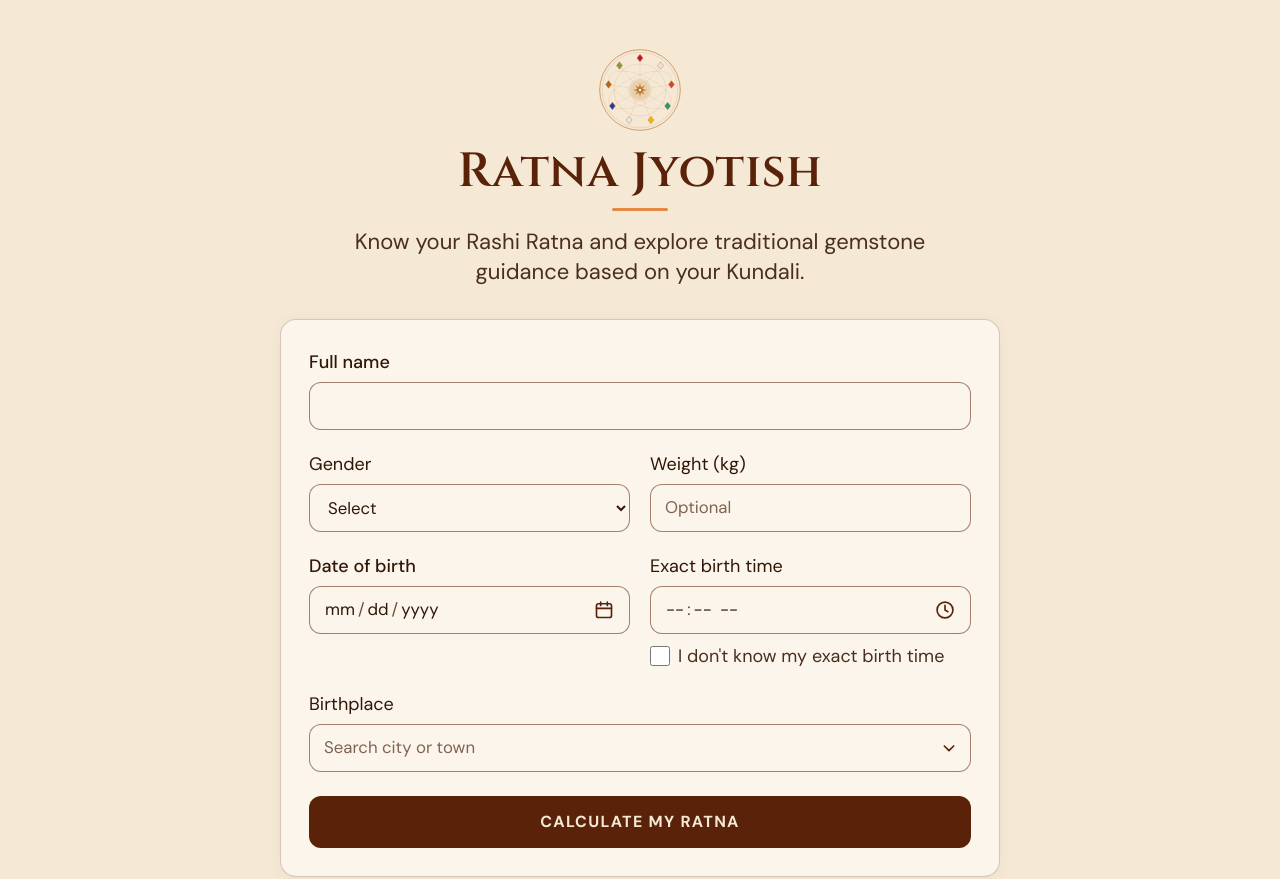
Scenario: Ratna Jyotish form › sends no time when the birth time is unknown and shows a gemstone-led date-based result
Type "Asha Verma" into the field labelled "Full name" at [640, 406], box [309,382,971,430]
Select "Female" in the dropdown labelled "Gender" at [470, 508], box [309,484,630,532]
Type "58" into the number field labelled "Weight (kg)" at [810, 508], box [650,484,971,532]
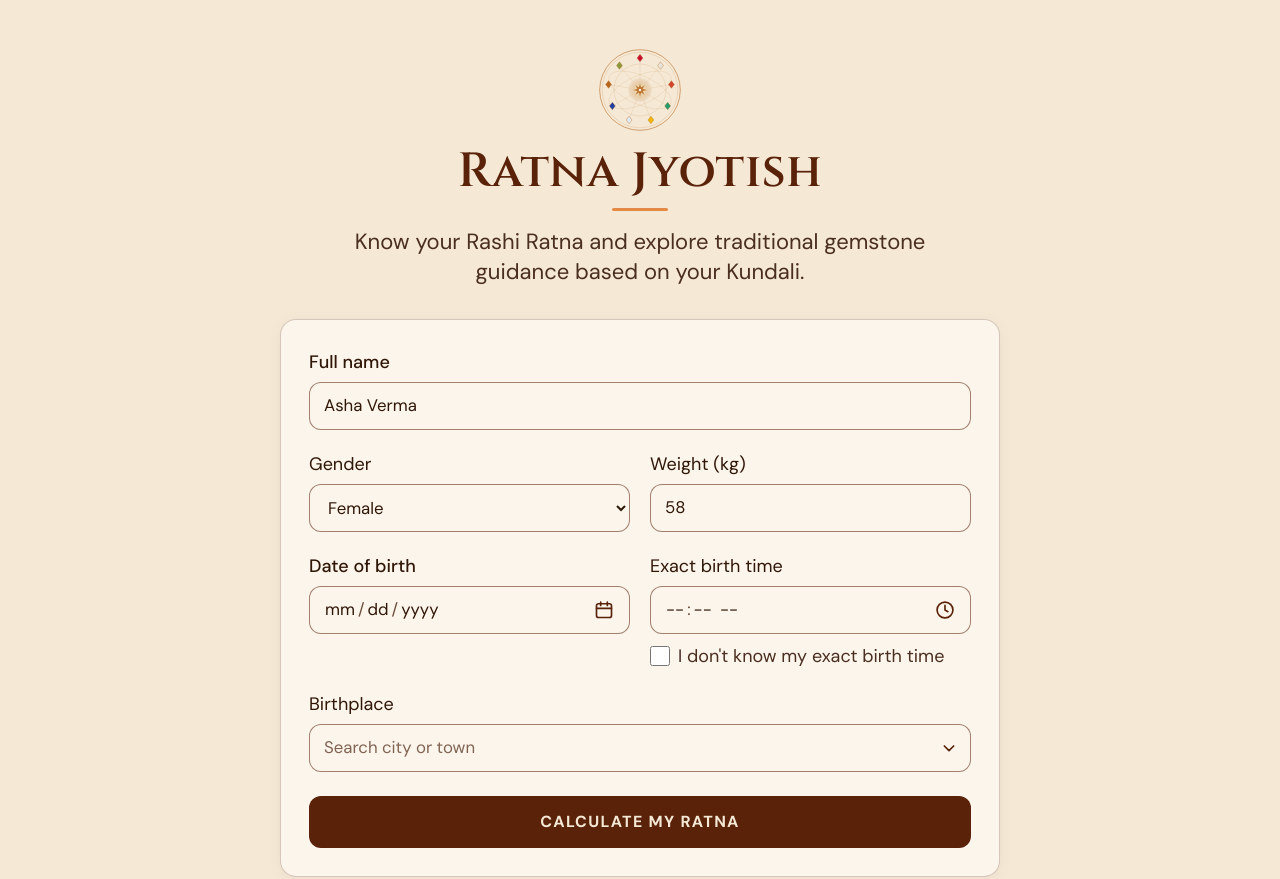
Type "1990-05-05" into the date field labelled "Date of birth" at [470, 610], box [309,586,630,634]
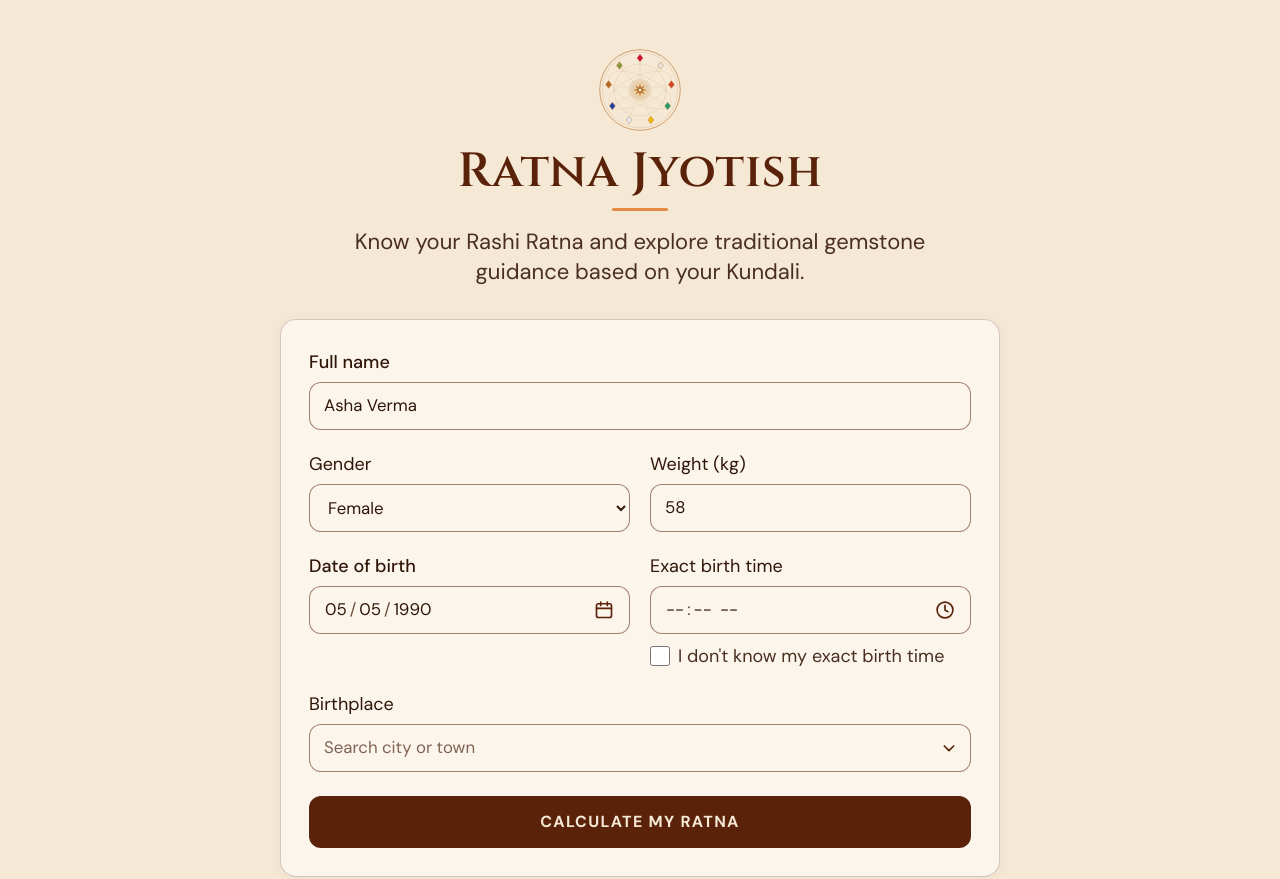
Click the checkbox labelled "I don't know my exact birth time" at [660, 656], box [650,646,670,666]
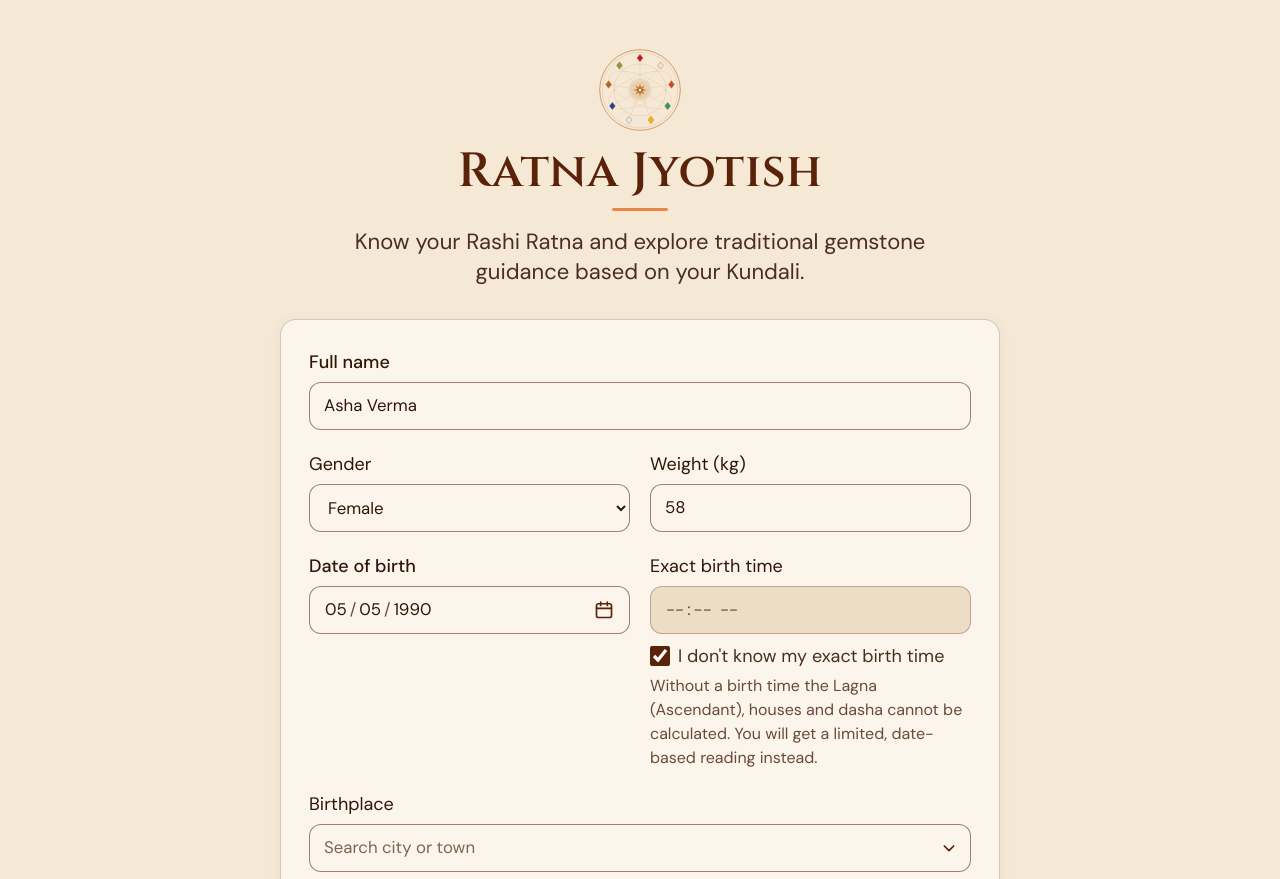
Type "Delhi" into the dropdown named "Birthplace" at [640, 848], box [309,824,971,872]
(page scrolled)
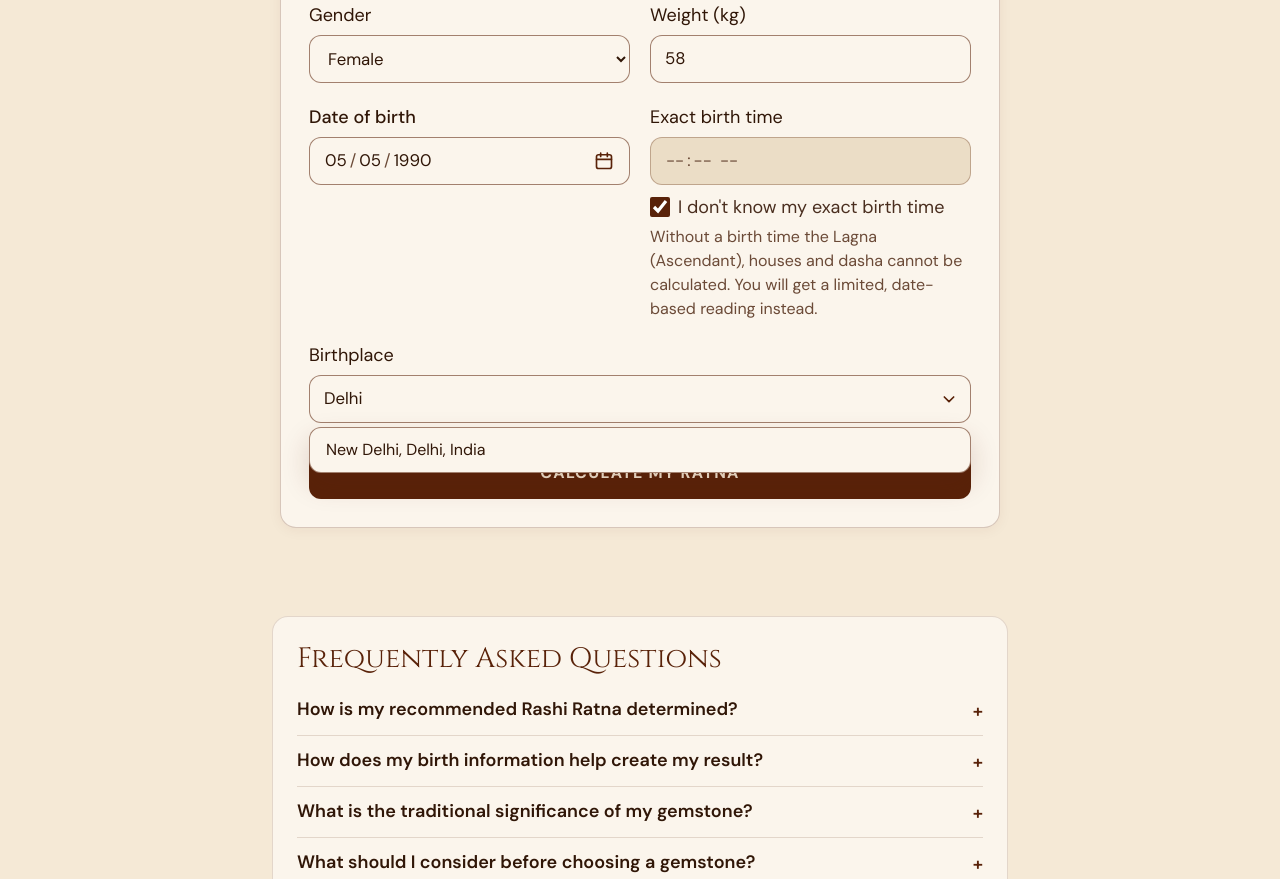
Press the mouse on the option "New Delhi, Delhi, India" at [406, 450], box [326,439,486,460]
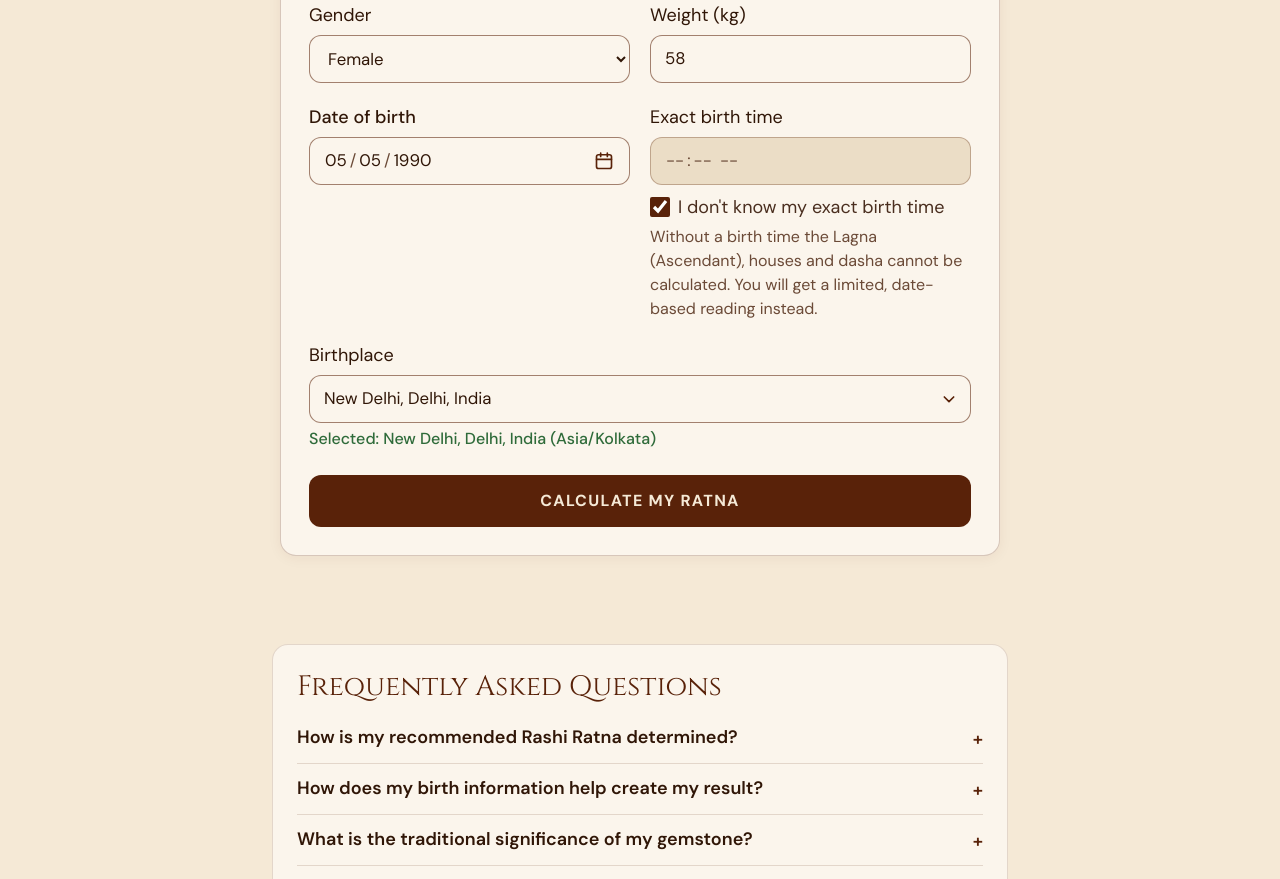
Click the button "CALCULATE MY RATNA" at [640, 501], box [309,475,971,527]
(page scrolled)
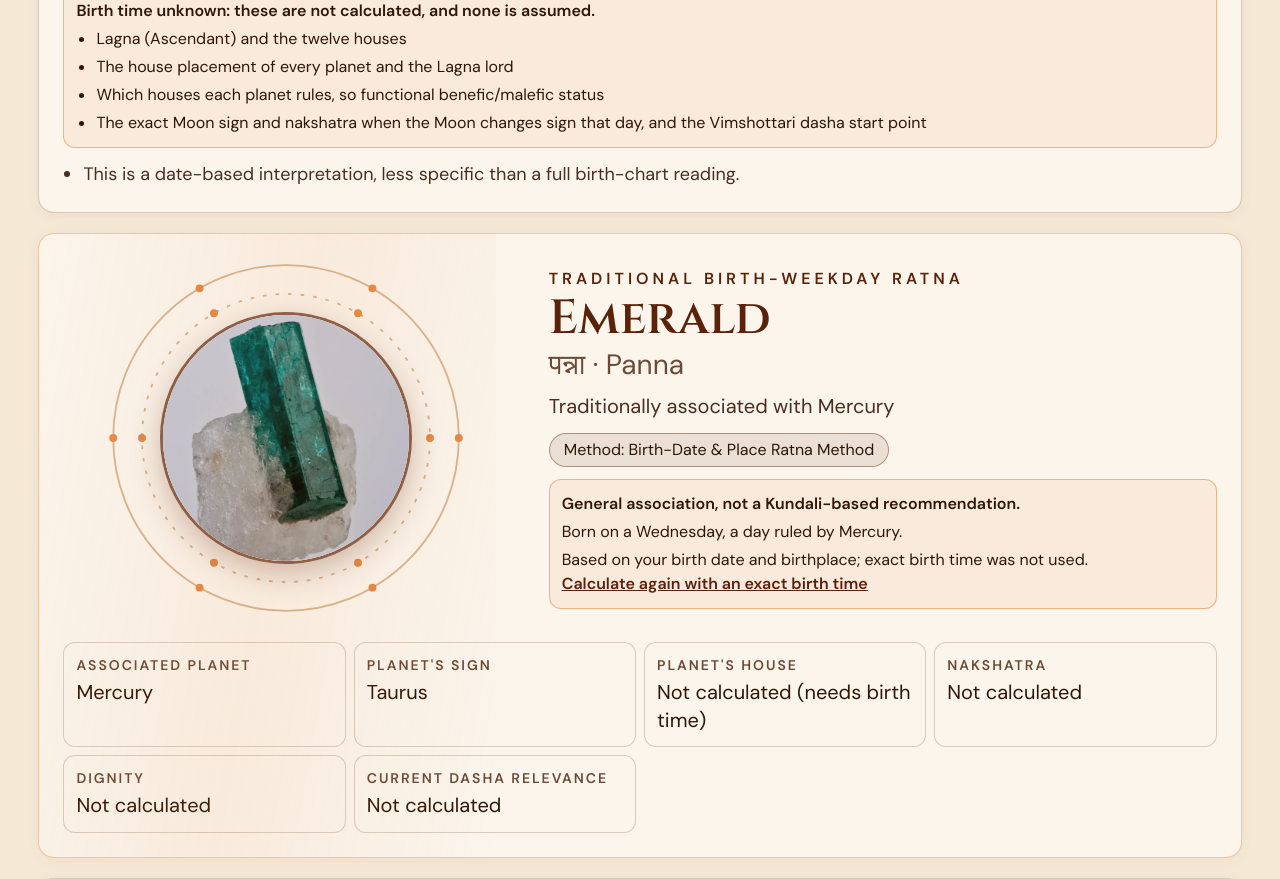
Check: the heading with test id "recommended-stone" reads "Emerald", box [549,286,771,351]
Check: the text with test id "method-label" reads "Method: Birth-Date & Place Ratna Method", box [549,433,889,467]
